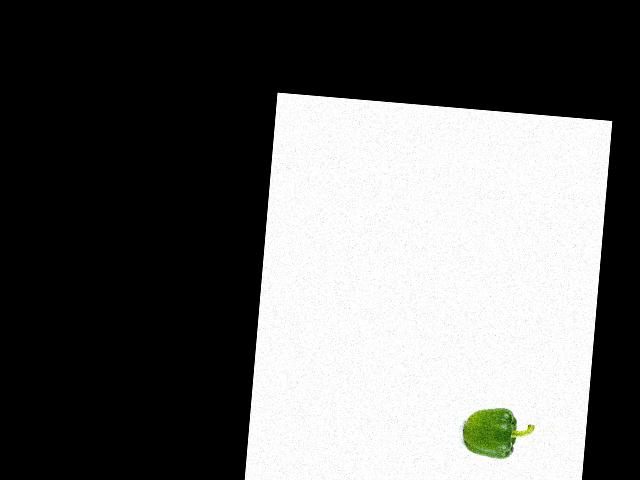bell_pepper: (460, 404, 534, 469)
